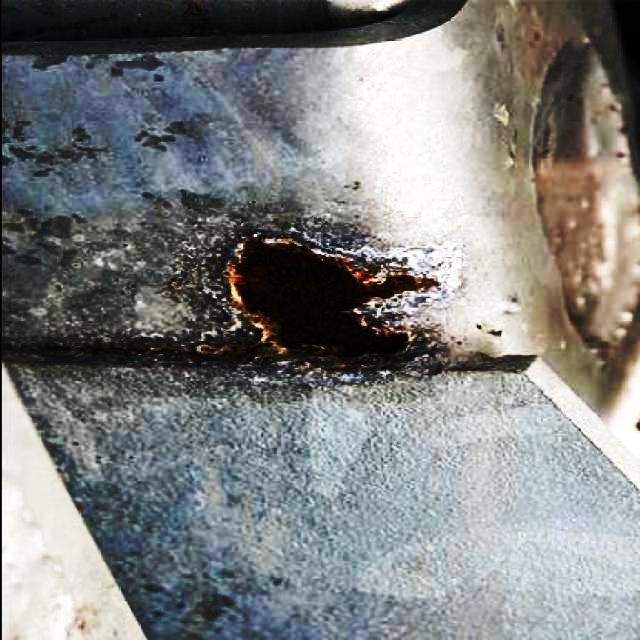Corrosion: (228, 237, 438, 356)
